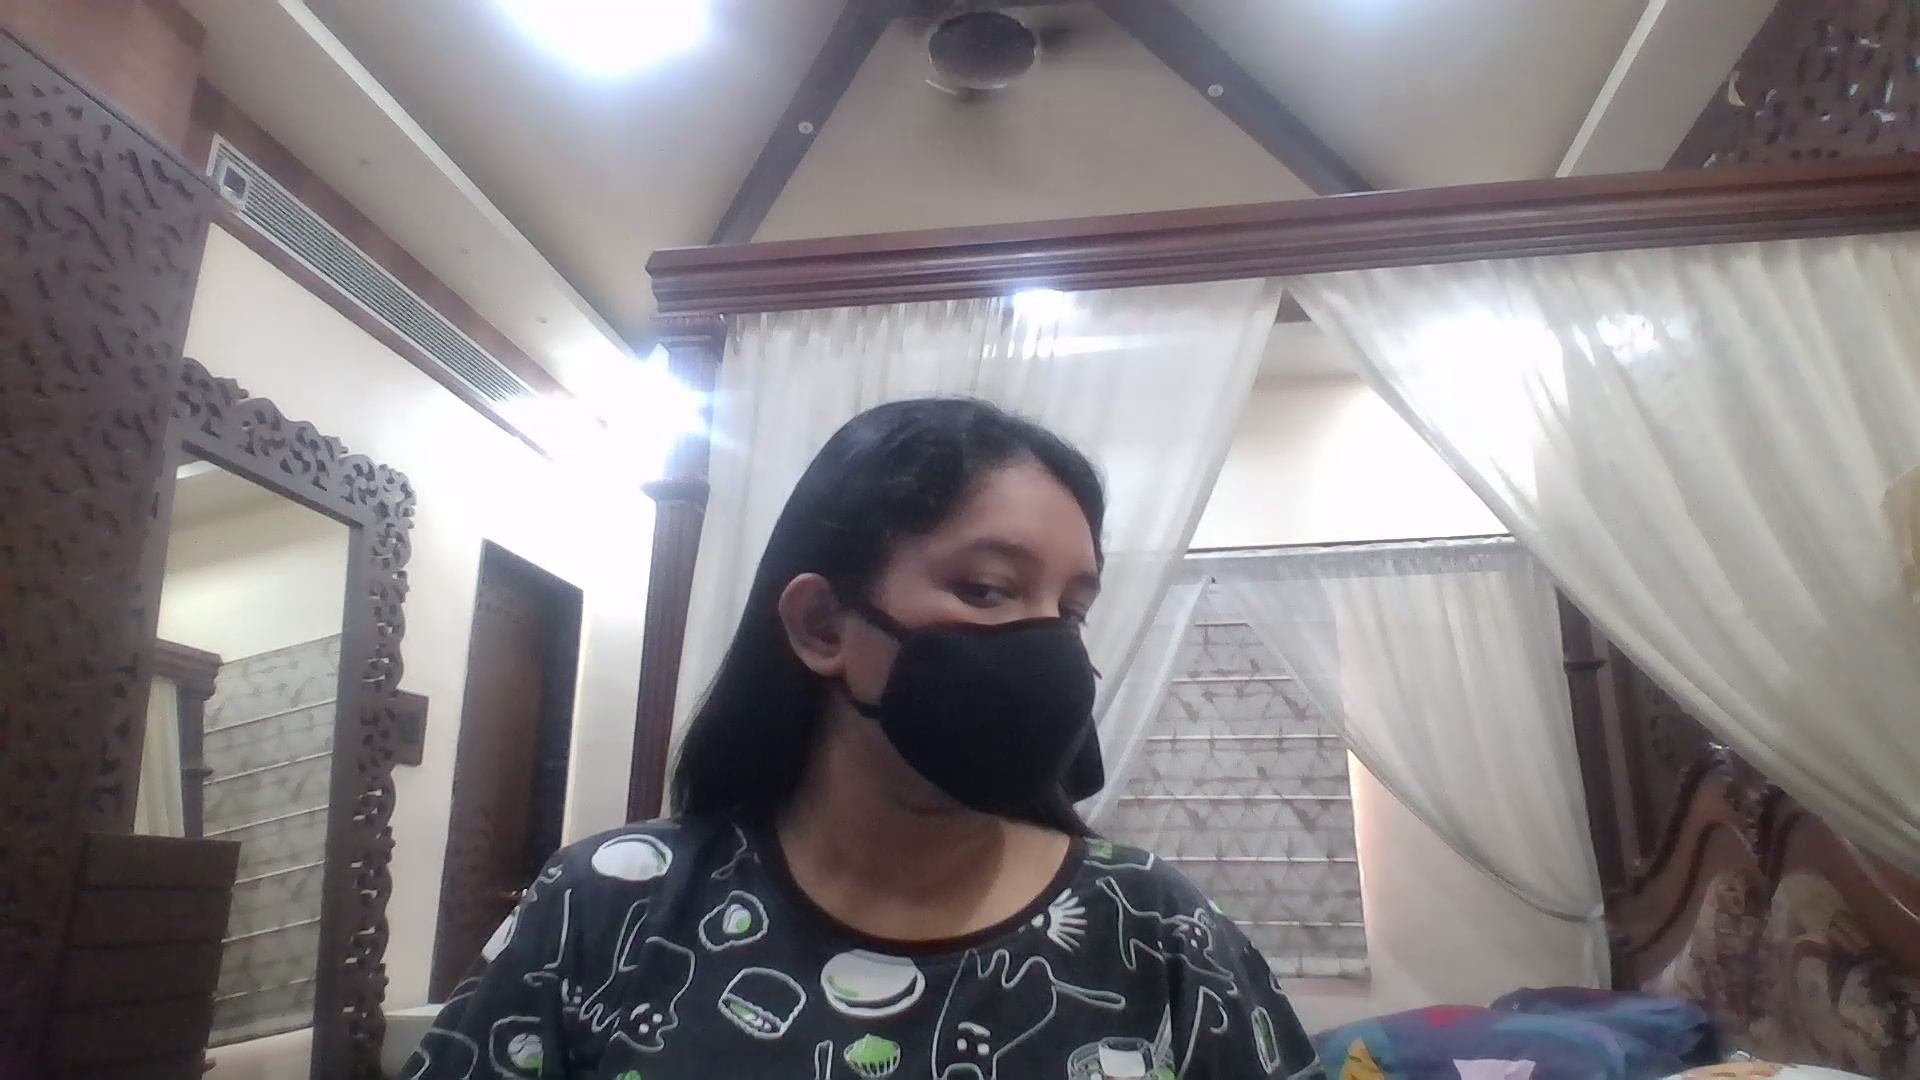Mask: (859, 620, 1101, 808)
